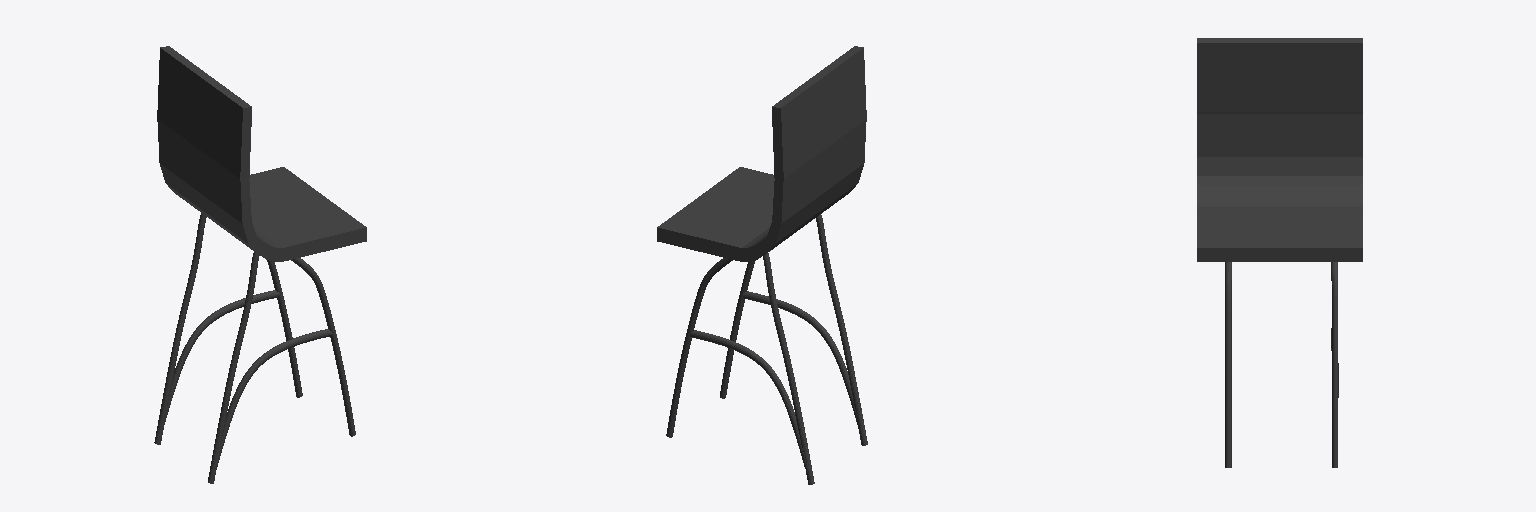
File: ChairTall.obj
3 views of the same model, side by side, from view 1: azimuth 30°, elevation 25°; view 2: azimuth 150°, elevation 25°; view 3: azimuth 270°, elevation 25° (orthographic).
Parts seen in each view (by area): view 1: NurbsPath_CUNurbsPath; view 2: NurbsPath_CUNurbsPath; view 3: NurbsPath_CUNurbsPath.
Boxes of the visible parts, box(x1,y1,x2,y2) form: NurbsPath_CUNurbsPath: box(154, 46, 366, 483); NurbsPath_CUNurbsPath: box(657, 46, 867, 484); NurbsPath_CUNurbsPath: box(1197, 38, 1362, 467).
Bounding box in the file's own units: 2.57 × 6.37 × 2.5.